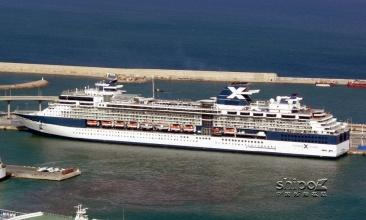youlun: (15, 75, 359, 155)
